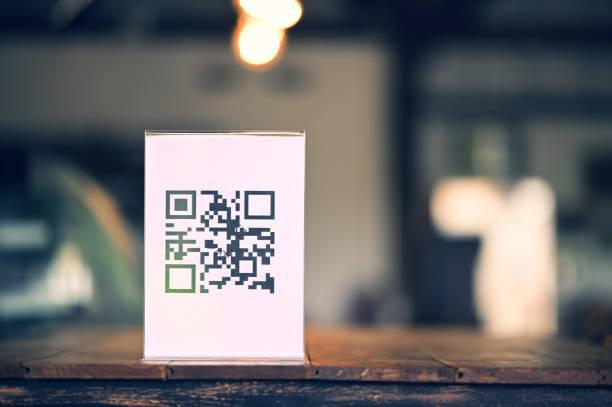Finder pattern: (163, 188, 200, 223)
